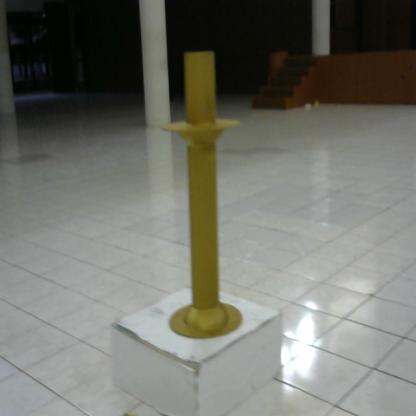pole: (161, 45, 252, 345)
